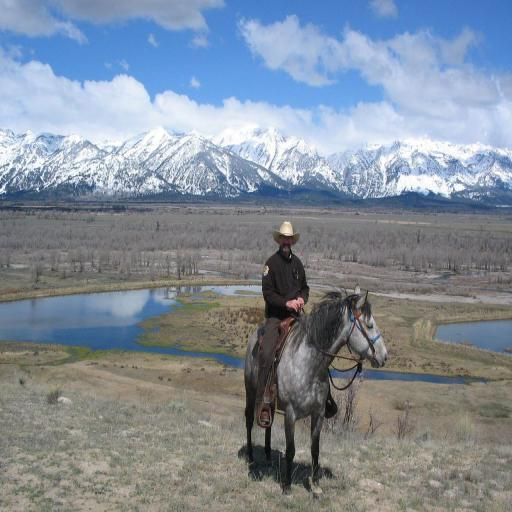Horse: (244, 284, 387, 502)
